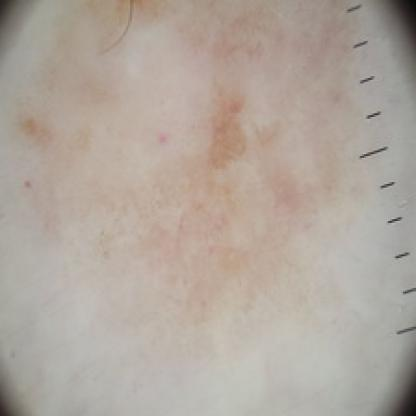malignant: (161, 89, 275, 184)
